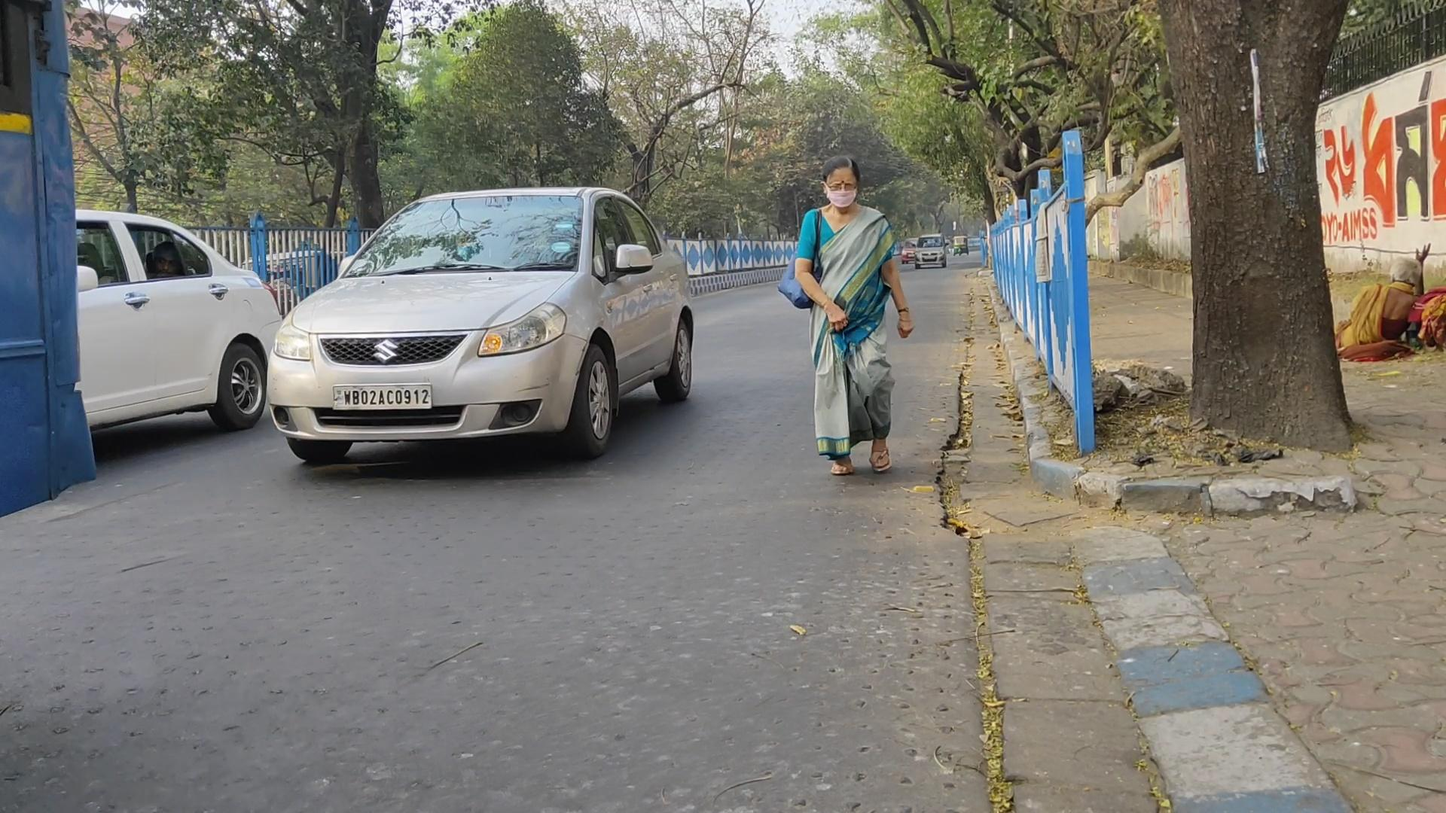Auto: (952, 236, 969, 256)
car: (265, 186, 696, 459), (71, 205, 285, 457), (913, 233, 949, 269), (899, 237, 923, 265)
